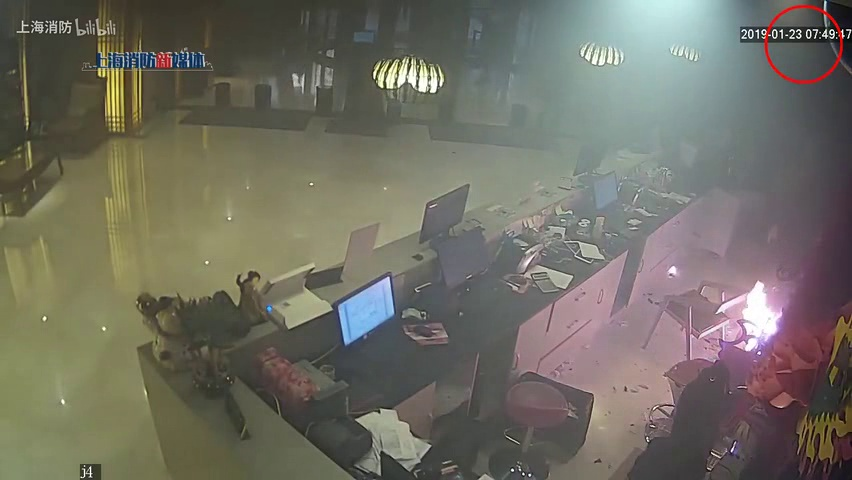fire: (730, 278, 782, 353)
